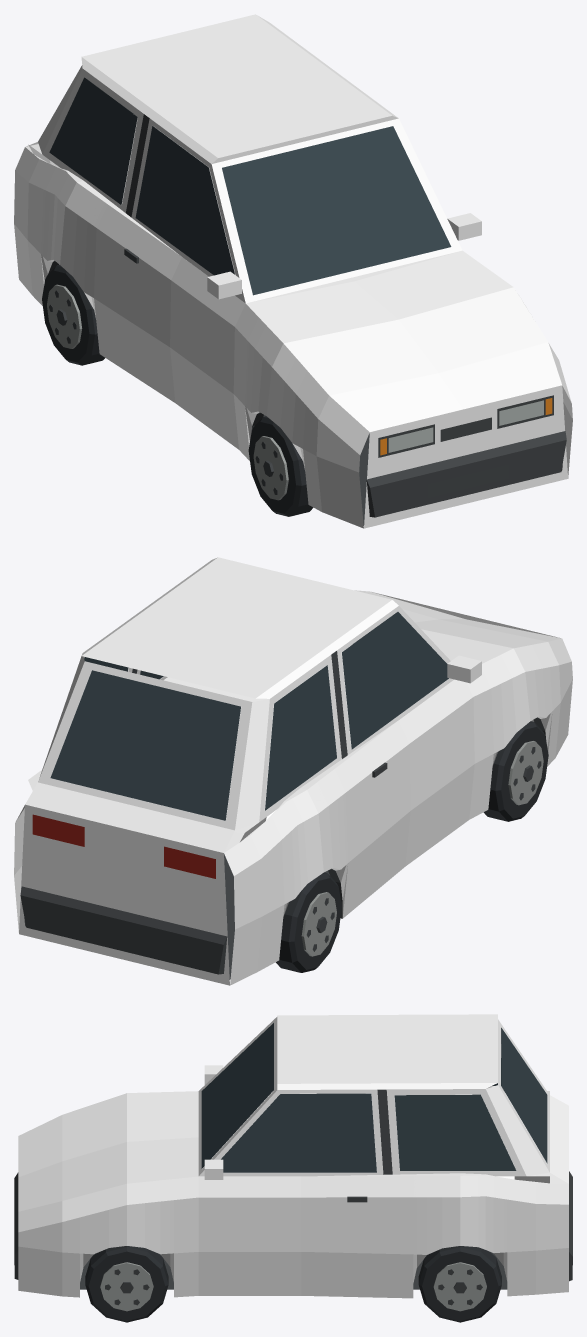
Rendered from hartwig_bussard.glb.
3 views of the same model, one above another, from view 1: azimuth 30°, elevation 25°; view 2: azimuth 150°, elevation 25°; view 3: azimuth 270°, elevation 25° (orthographic). The views are drawn at different scales.
Visible parts, largest first — view 1: hartwig_bussard; view 2: hartwig_bussard; view 3: hartwig_bussard.
Boxes of the visible parts, x1,y1,x2,y2 form: hartwig_bussard: [14, 14, 572, 528]; hartwig_bussard: [14, 557, 572, 985]; hartwig_bussard: [14, 1014, 572, 1322].
Bounding box in the file's own units: 1.59 × 1.61 × 3.62.
Materials: 8 (1 with a texture image).
